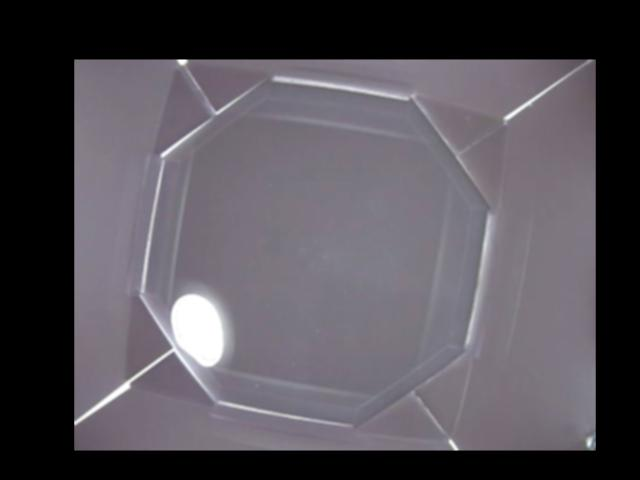Pebble: (169, 295, 225, 366)
